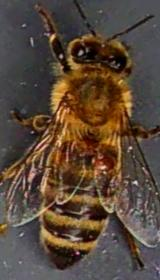varroa_mite: (90, 146, 112, 172)
